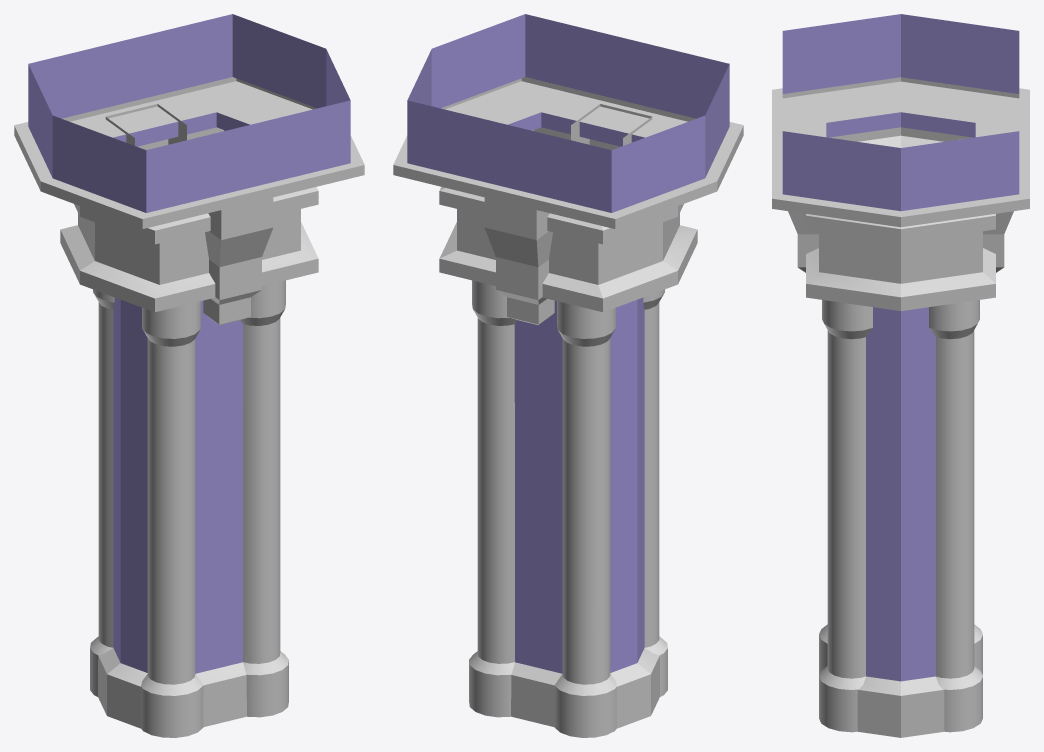
The model's file is pillar.fbx.
3 renders of one model, left to right at view 1: azimuth 30°, elevation 25°; view 2: azimuth 150°, elevation 25°; view 3: azimuth 270°, elevation 25°, orthographic.
Visible parts, largest first — view 1: pillar_LOD0; view 2: pillar_LOD0; view 3: pillar_LOD0.
Boxes of the visible parts, x1,y1,x2,y2 form: pillar_LOD0: (14, 14, 364, 737); pillar_LOD0: (393, 14, 743, 737); pillar_LOD0: (772, 14, 1029, 737).
Size of what is drawn, in the model's own units: 328 by 647 by 245.
